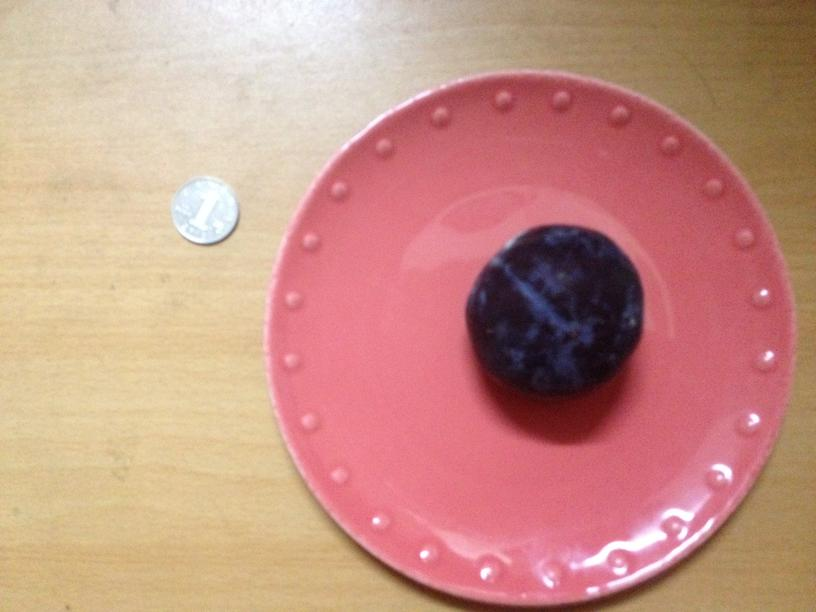coin: (171, 173, 238, 241)
plum: (465, 224, 645, 399)
